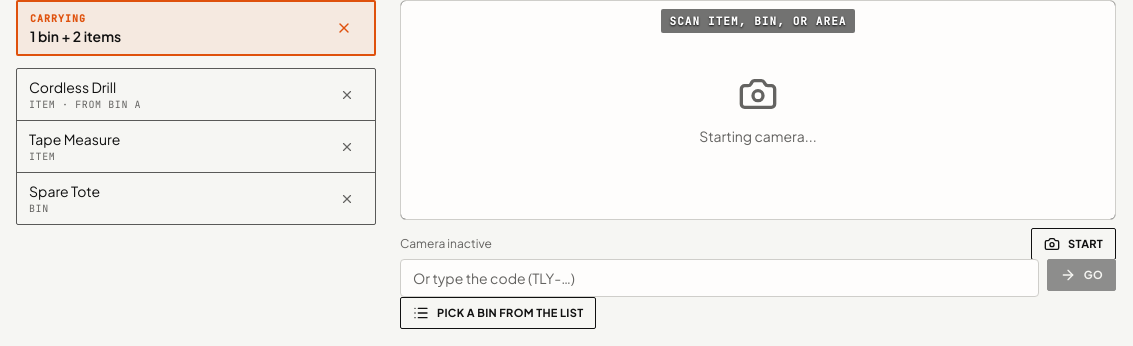
a desk lists what is in hand instead of counting it, and each row can be put back
Expected: the text "Cordless Drill" is shown, [29,78,116,96]
Expected: the text "Tape Measure" is shown, [29,130,120,148]
A mis-scan is correctable without dropping the whole load.
Click the button named "put tape measure back": (347, 146) [331,130,363,162]
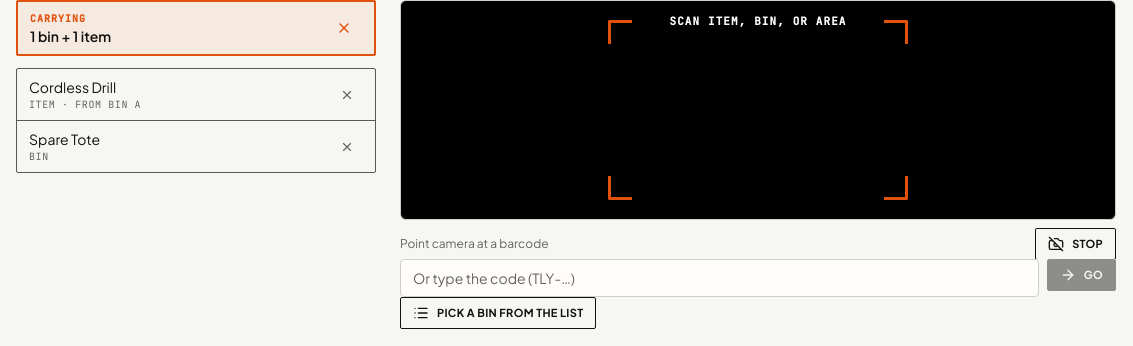
Now the text "Tape Measure" is gone
